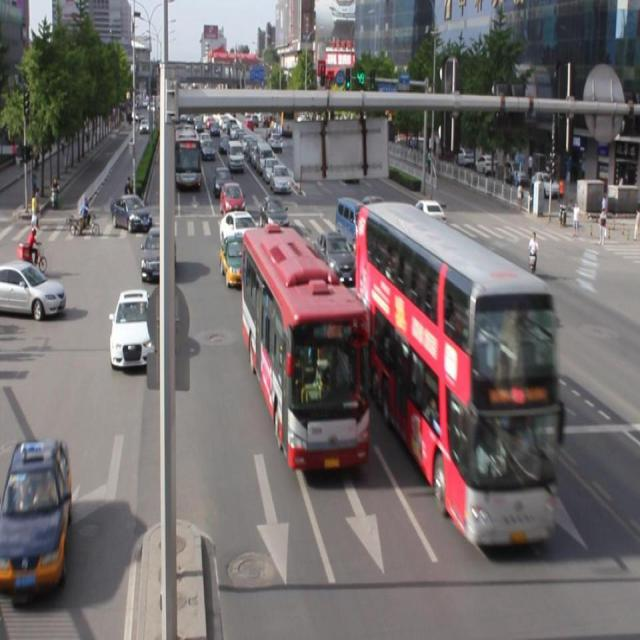BigCar: (363, 203, 562, 541), (240, 219, 376, 481), (177, 128, 208, 192)
car: (2, 432, 78, 592), (104, 289, 159, 376), (3, 255, 61, 325), (321, 222, 357, 286), (110, 182, 153, 234), (142, 225, 173, 279), (222, 176, 252, 222), (272, 165, 298, 193)
